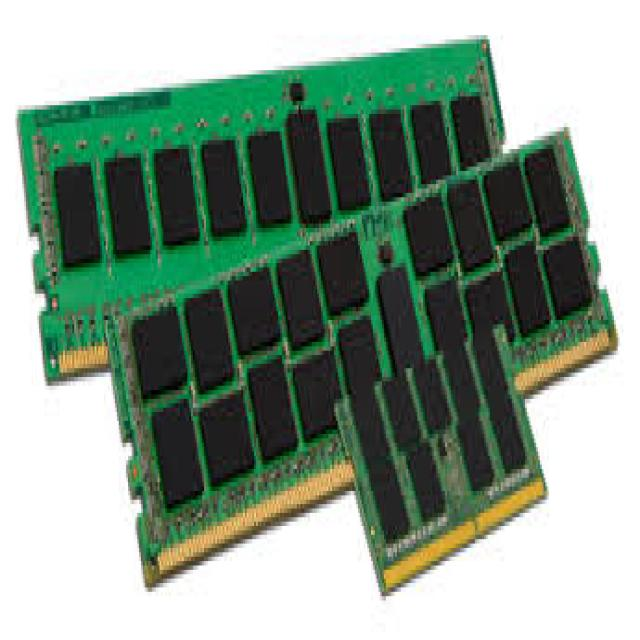Ram: (32, 56, 561, 573)
